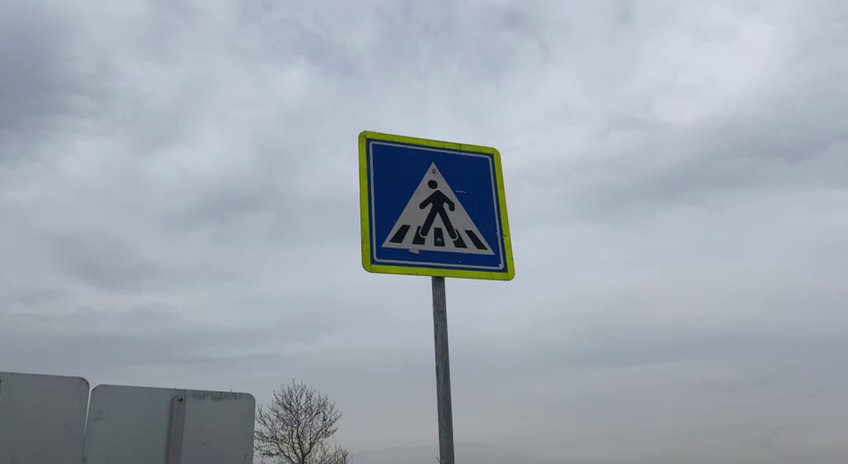pedestrianCrossing: (357, 129, 517, 282)
